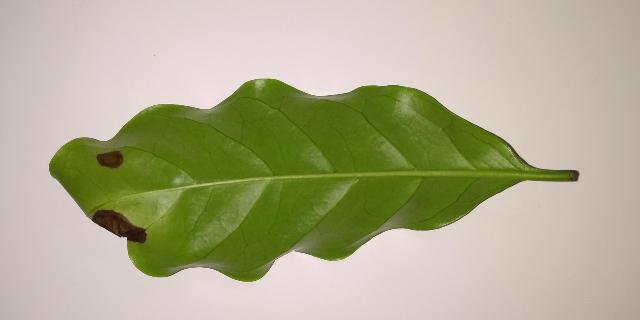rust: (85, 210, 146, 243), (97, 151, 123, 168)
